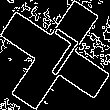L_SW: (28, 26, 82, 84)
